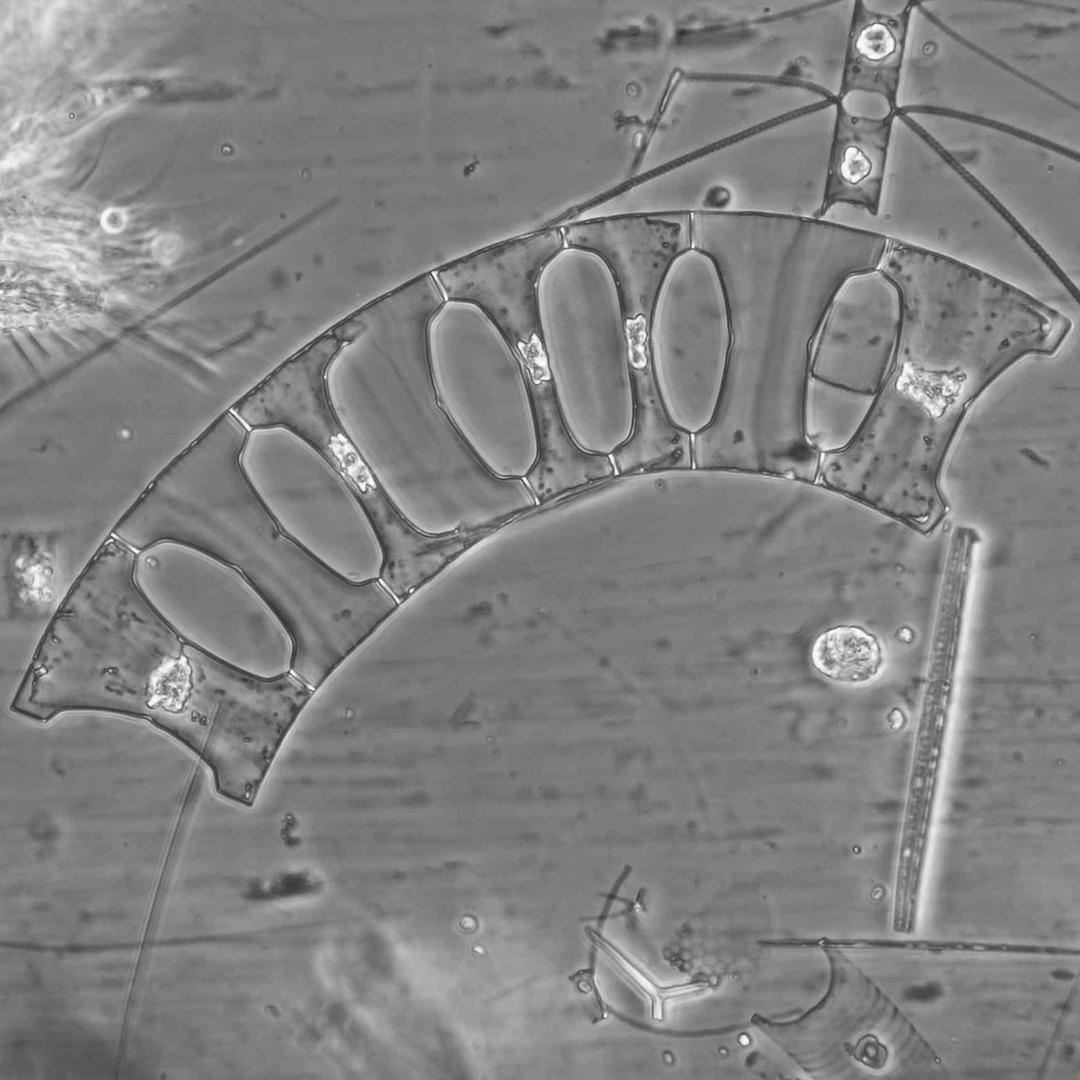eucampia_zodiacus: (13, 207, 1070, 804)
